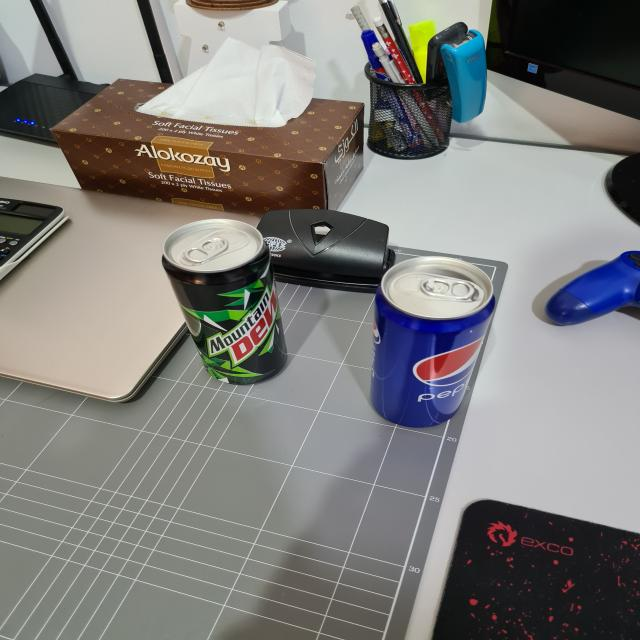non-organic waste: (149, 218, 292, 391), (367, 258, 502, 432)
